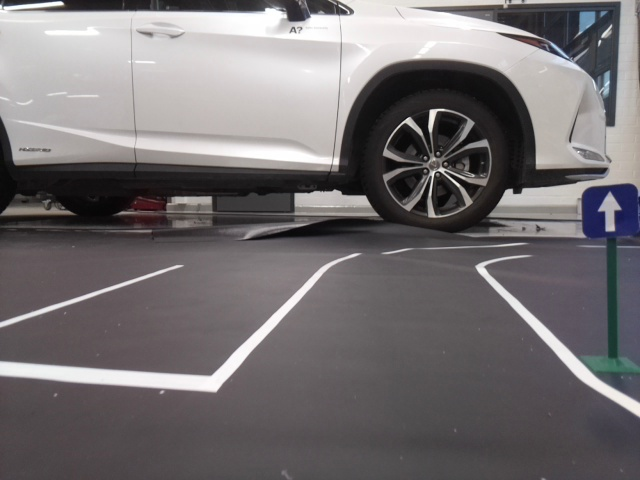OneWay: (579, 186, 638, 233)
